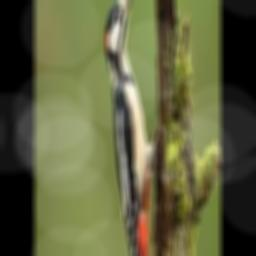Woodpecker: (105, 0, 167, 256)
